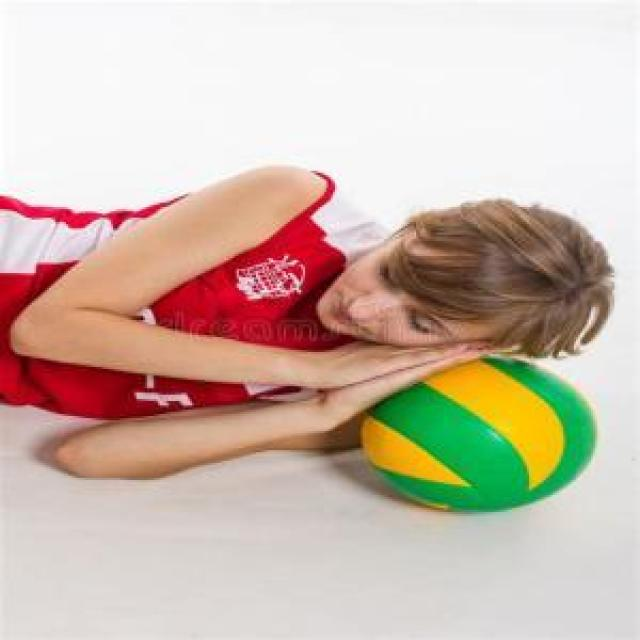volleyball: (362, 356, 598, 514)
